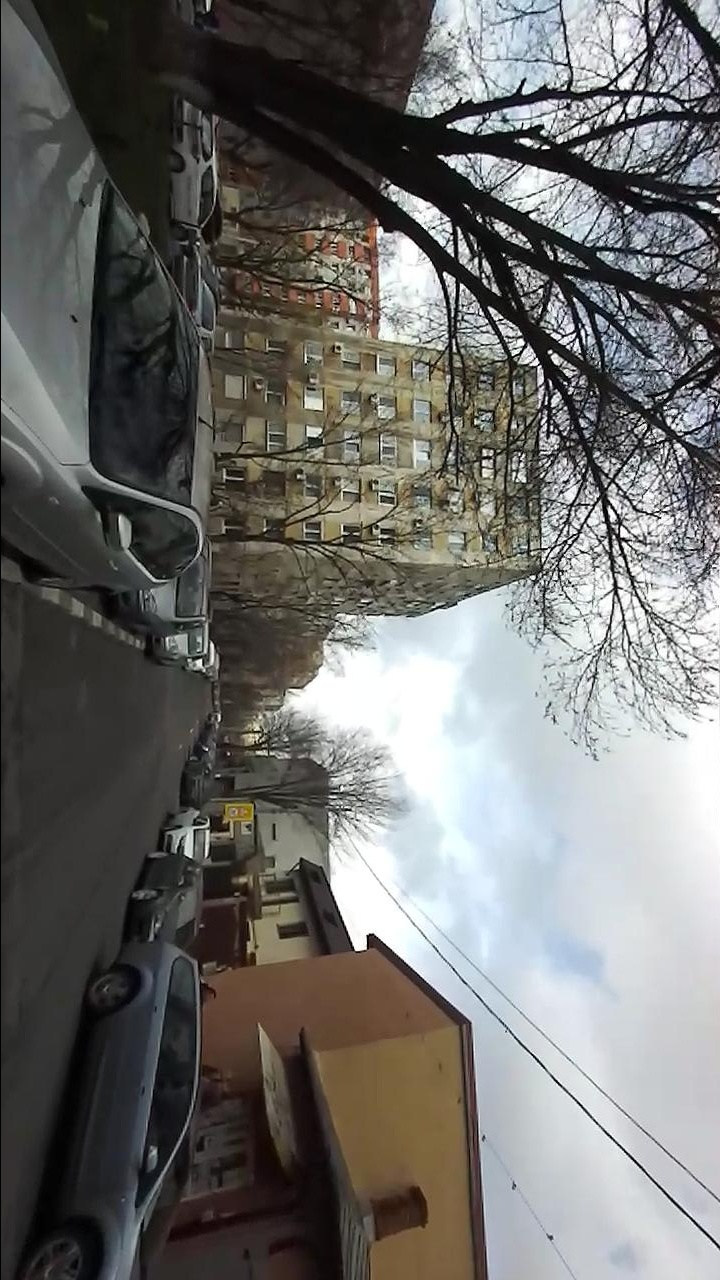pothole: (1, 667, 31, 776)
